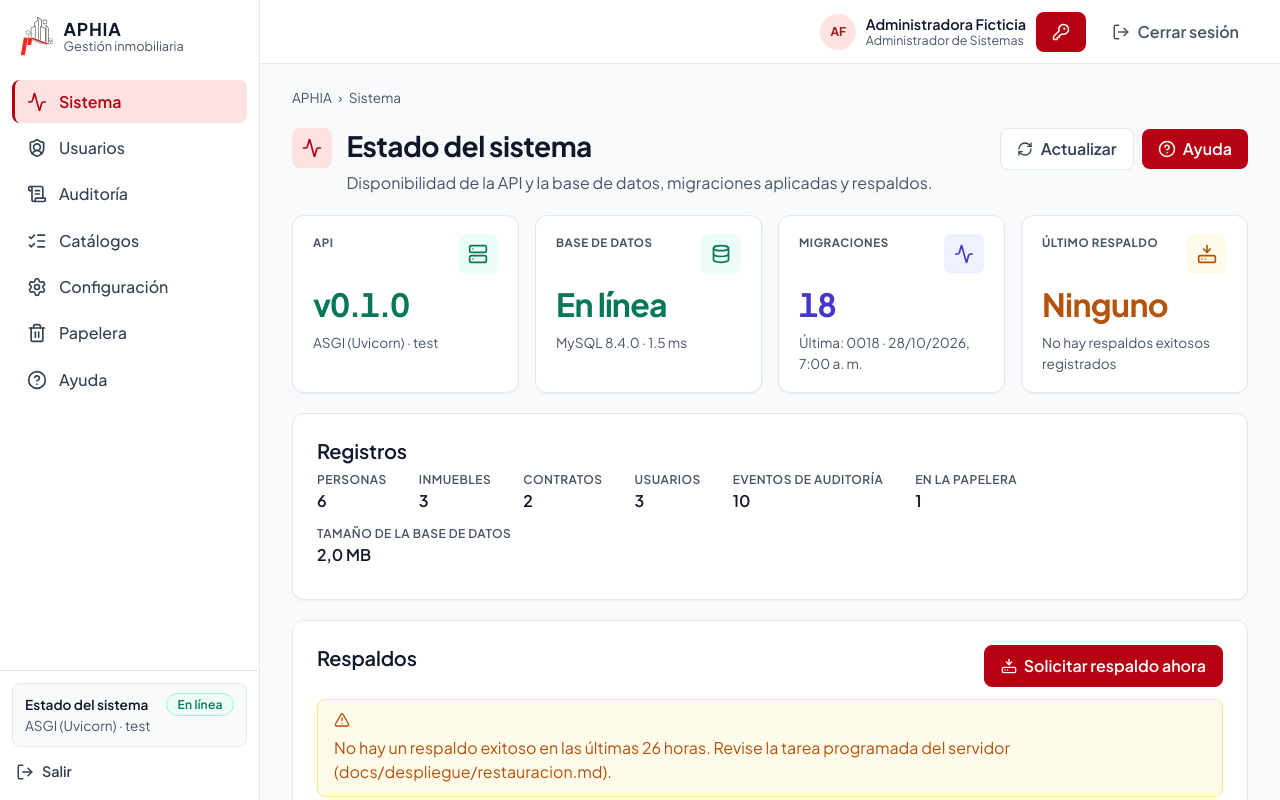
Test: SistemaPage › muestra el estado, avisa del respaldo atrasado y solicita uno
Expected: the text "En línea" in the row of "Ninguno" is shown, [556,284,667,324]
Expected: the text "Última: 0018 · 28/10/2026, 7:00 a. m." is shown, [799,333,984,374]
Step 1. Click the button "Solicitar respaldo ahora" → (1103, 666), box [984,644,1223,686]
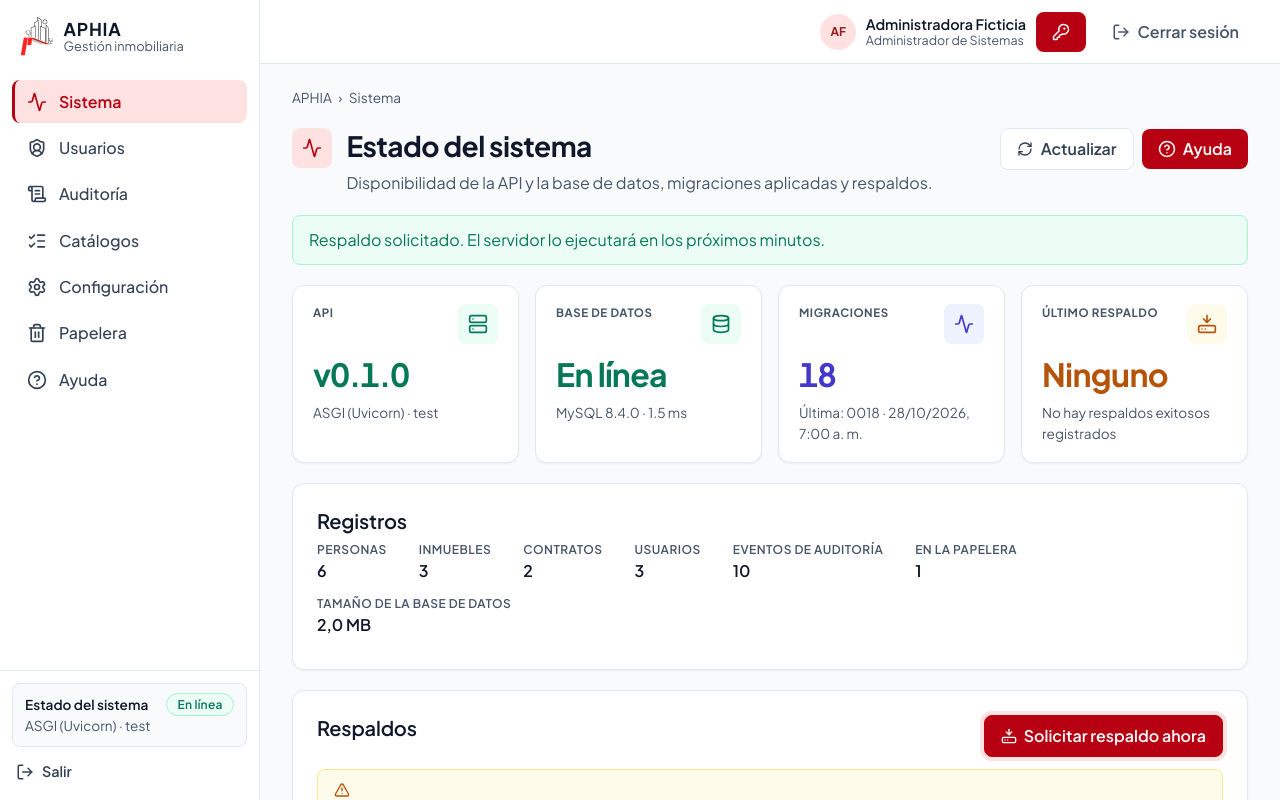
Expected: the message shows "Respaldo solicitado", [309,229,825,250]
